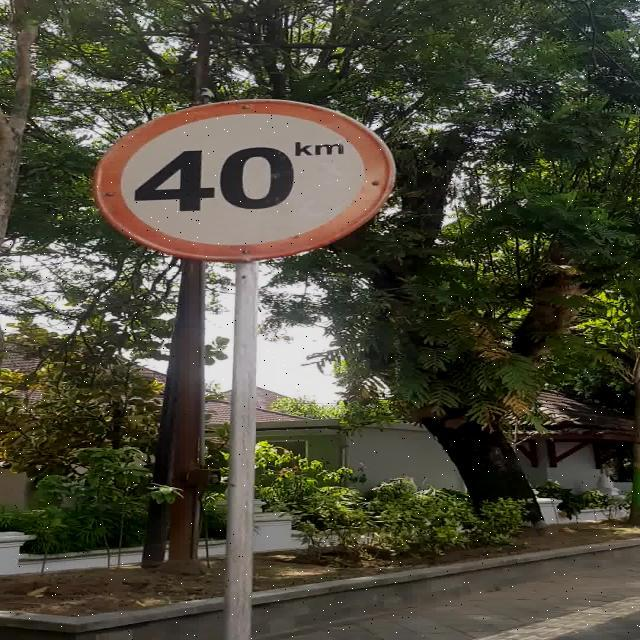Kecepatan Maks. 40 km: (92, 98, 397, 262)
